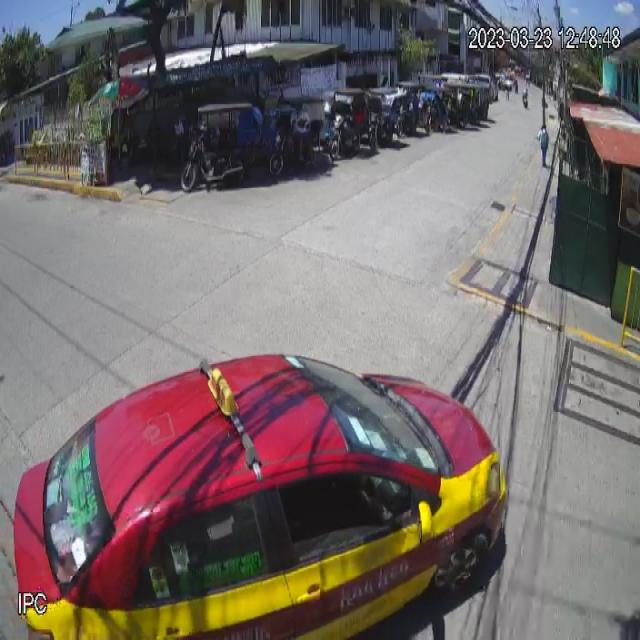Car: (11, 354, 508, 640)
